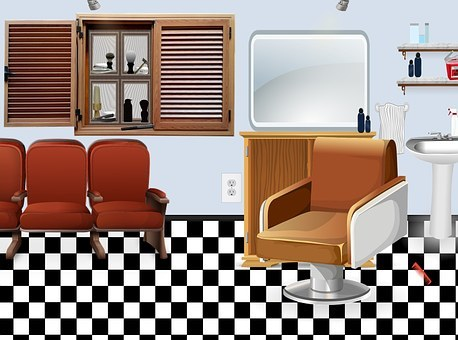chair: (253, 130, 415, 308), (86, 135, 176, 264), (19, 134, 95, 262), (2, 134, 30, 259)
